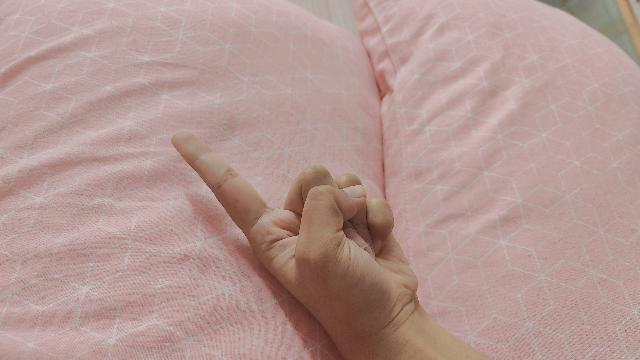soochi: (172, 132, 492, 360)
